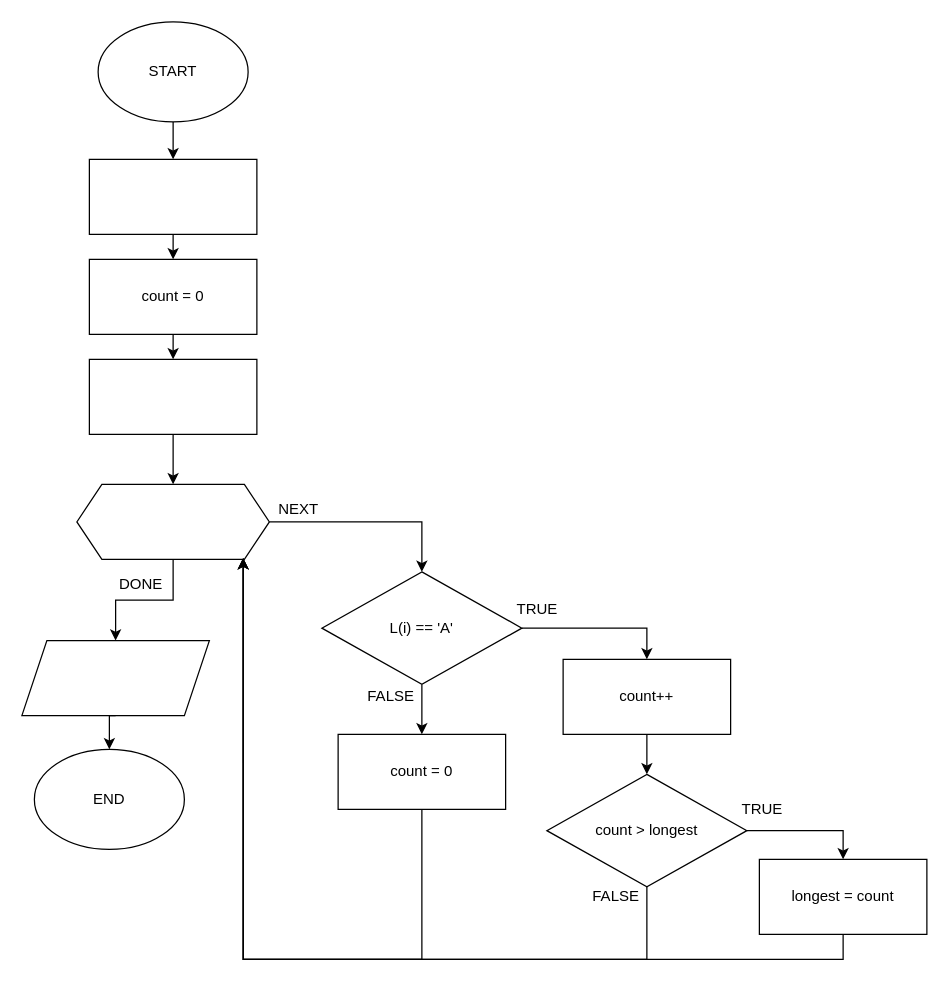
Some shapes in this 949 by 991 pixel diagram are drawn without their labels. The shapes that lost their labels are listed below. From the top down, each one's centre as x and y in pixels, then its label:
At (172,196): "n = length of L".
At (172,396): "longest = 0".
At (172,521): "FOR i = 0 to n-1".
At (115,677): "return longest".
